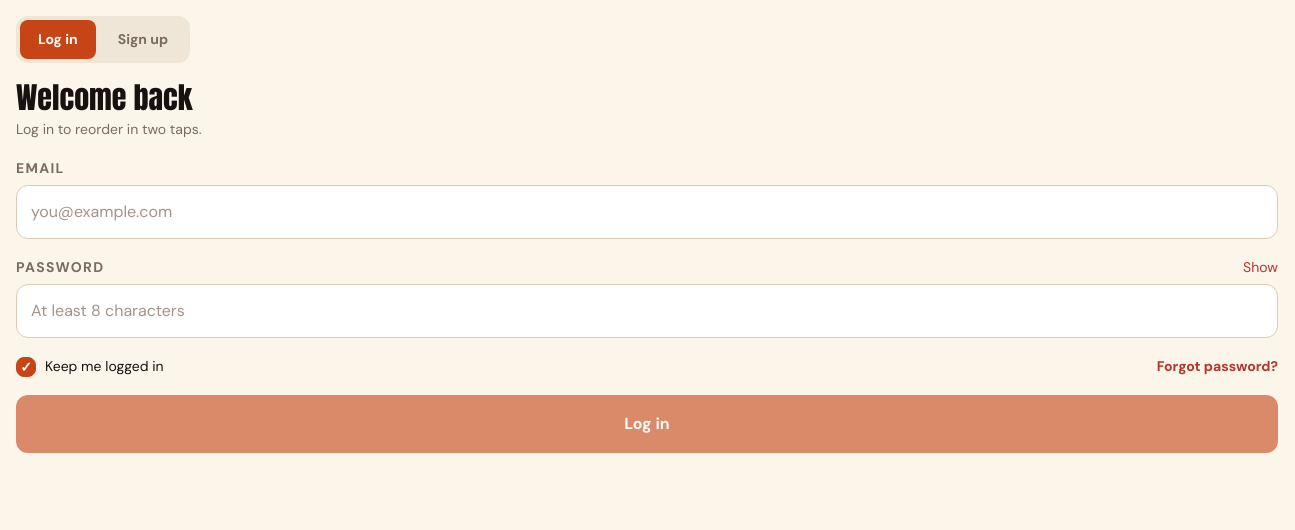
Test: US-01: CustomerLoginForm Validations › TC-1.2.S: a staff account gets the same rejection as a wrong password
In the field labelled "Email": (647, 212) [16,185,1278,239], type "manager@example.com"
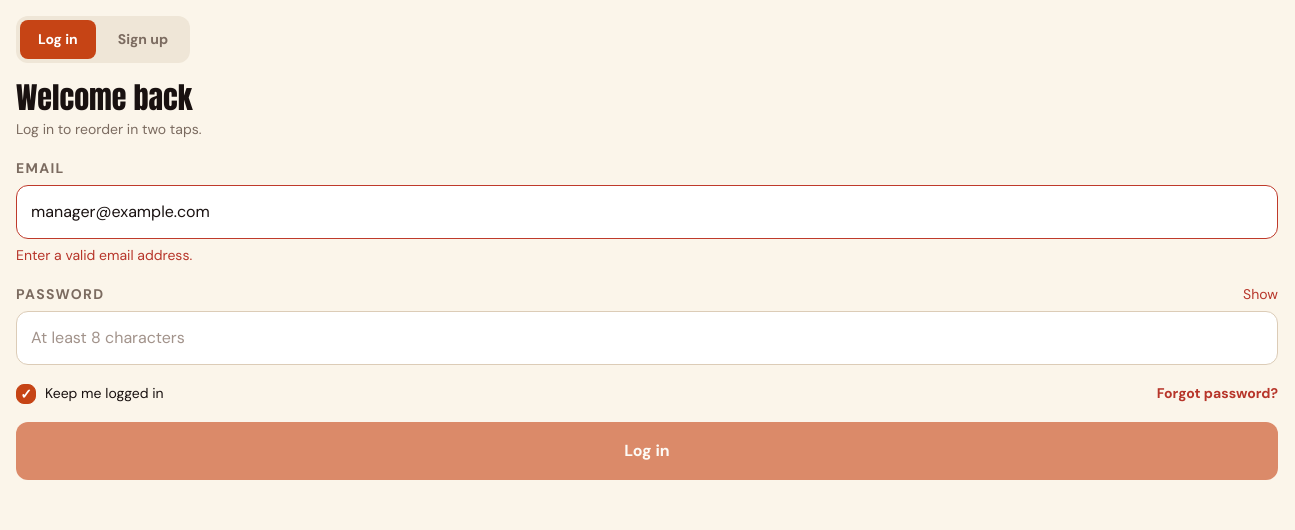
In the password field labelled "Password": (647, 338) [16,311,1278,365], type "password123"
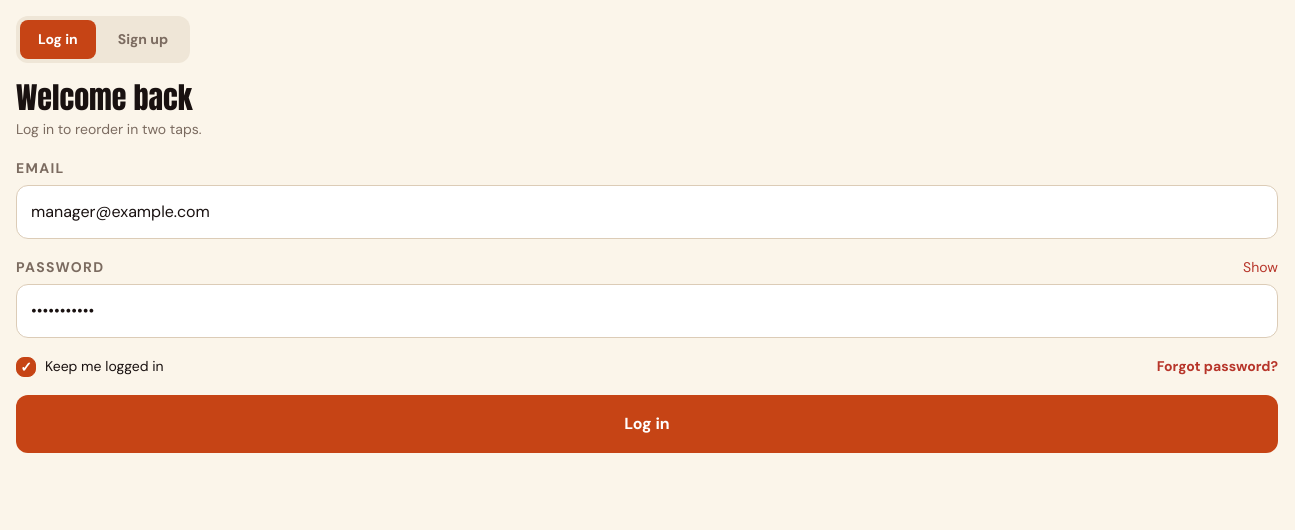
Result: the button "Log in" is enabled
Click the button "Log in": (647, 424) [16,395,1278,453]
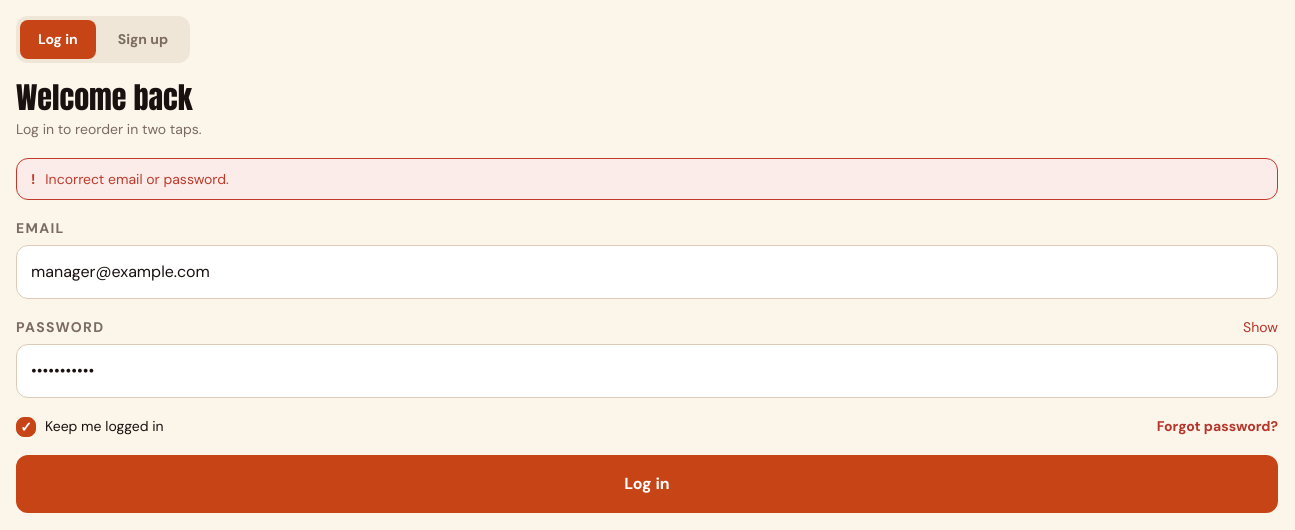
Expected: the message does not show "customer account", [16,158,1278,200]
Result: the message shows "Incorrect email or password." at [45,170,229,188]
